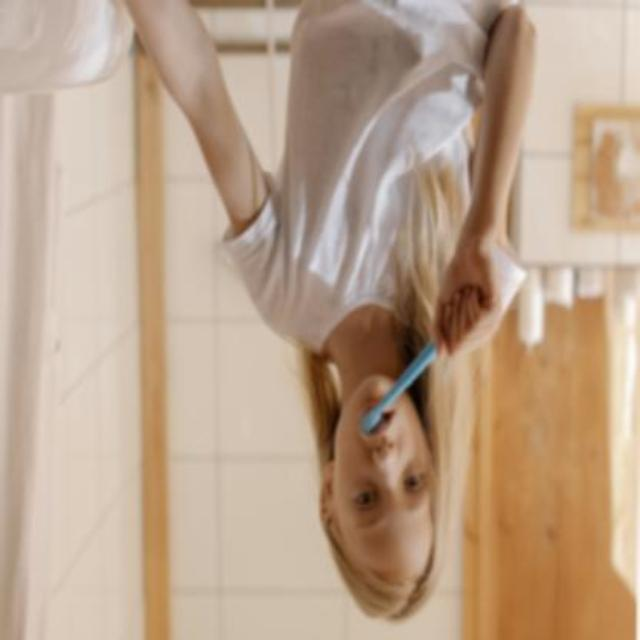toothbrush: (357, 333, 437, 443)
